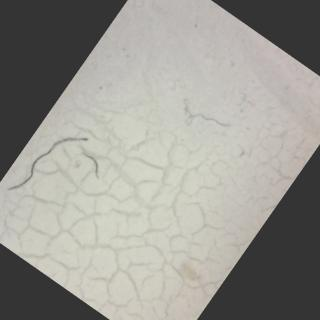Microplastic: (0, 93, 105, 225), (164, 84, 237, 150), (68, 137, 119, 189)
